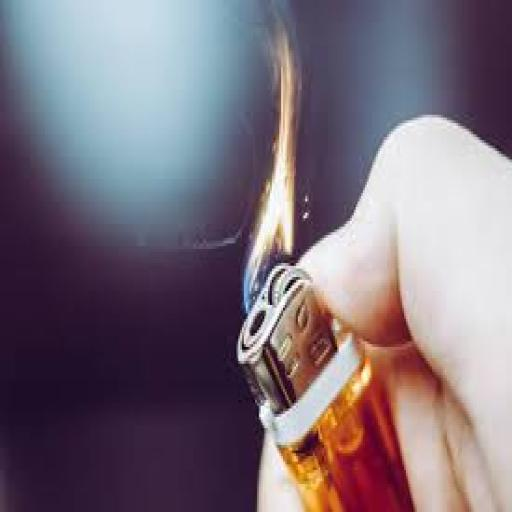fire: (242, 11, 311, 311)
